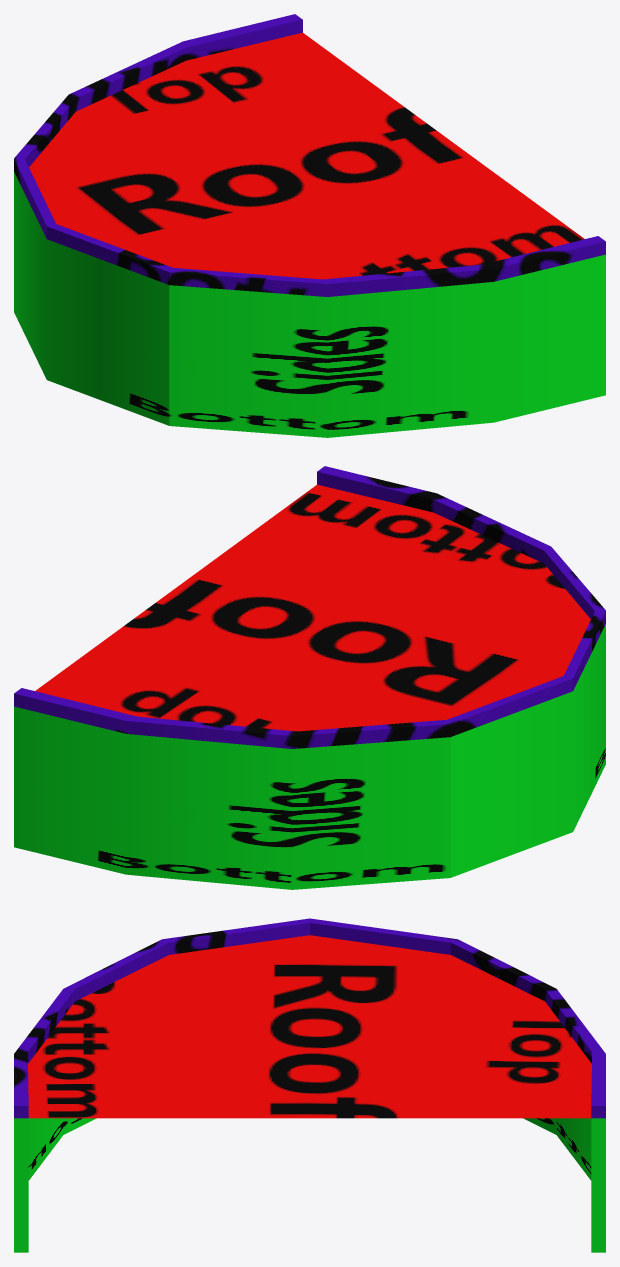
Rendered from BuildingAttachmentOne.fbx.
3 renders of one model, top to bottom at view 1: azimuth 30°, elevation 25°; view 2: azimuth 150°, elevation 25°; view 3: azimuth 270°, elevation 25°, orthographic. The views are drawn at different scales.
Visible parts, largest first — view 1: BuildingAttatchmentOneRoof, BuildingAttatchmentOneWalls; view 2: BuildingAttatchmentOneRoof, BuildingAttatchmentOneWalls; view 3: BuildingAttatchmentOneRoof, BuildingAttatchmentOneWalls.
Part boxes in pixels (box(x1,y1,x2,y2)): BuildingAttatchmentOneRoof: box(14, 14, 605, 296); BuildingAttatchmentOneWalls: box(14, 172, 605, 437); BuildingAttatchmentOneRoof: box(14, 466, 605, 748); BuildingAttatchmentOneWalls: box(14, 624, 605, 889); BuildingAttatchmentOneRoof: box(14, 918, 605, 1118); BuildingAttatchmentOneWalls: box(14, 1118, 605, 1252).
Bounding box in the file's own units: 9 × 3.28 × 12.
Materials: 1 (1 with a texture image).
